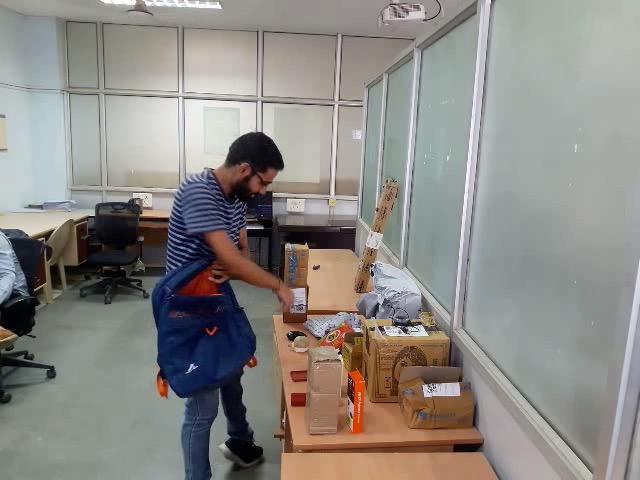shoplifting: (106, 216, 342, 429)
